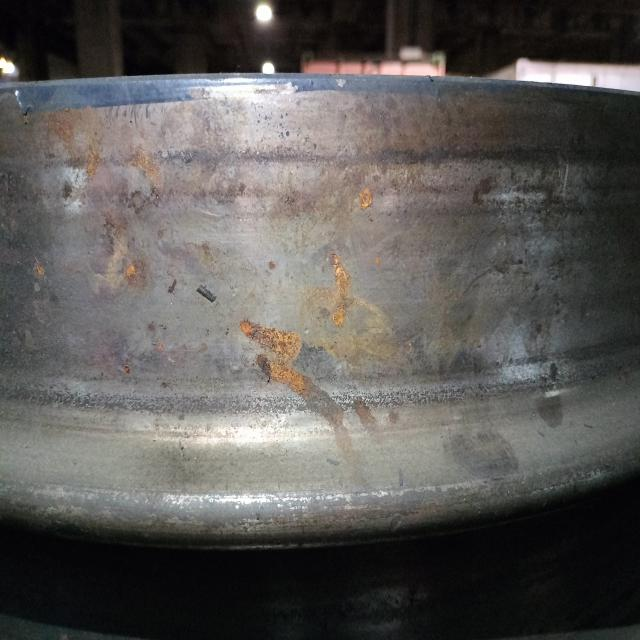Contact_Fatigue_Cracks: (252, 507, 448, 528)
